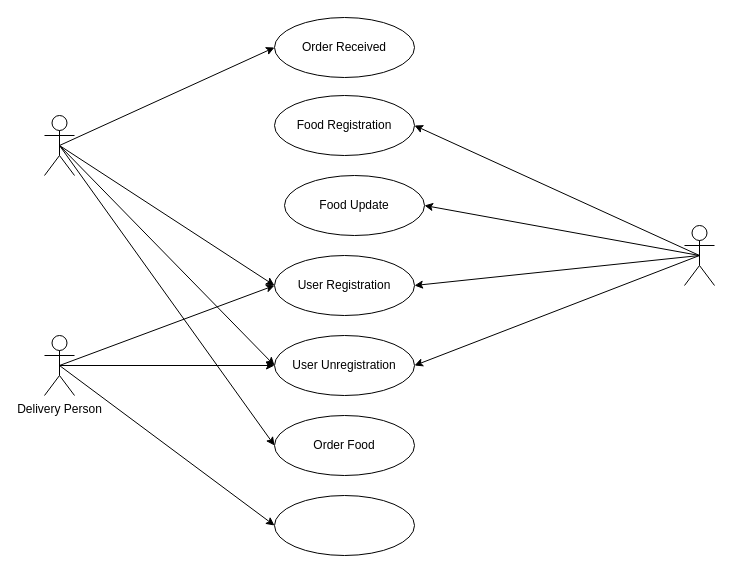
This 732x573 diagram has some shape labels left out. Here are the shapes that lost their labels. From the top down, the box of each, then its label:
(44, 114, 74, 176): Buyer
(684, 224, 714, 286): Seller
(274, 494, 414, 556): Food Delivered
